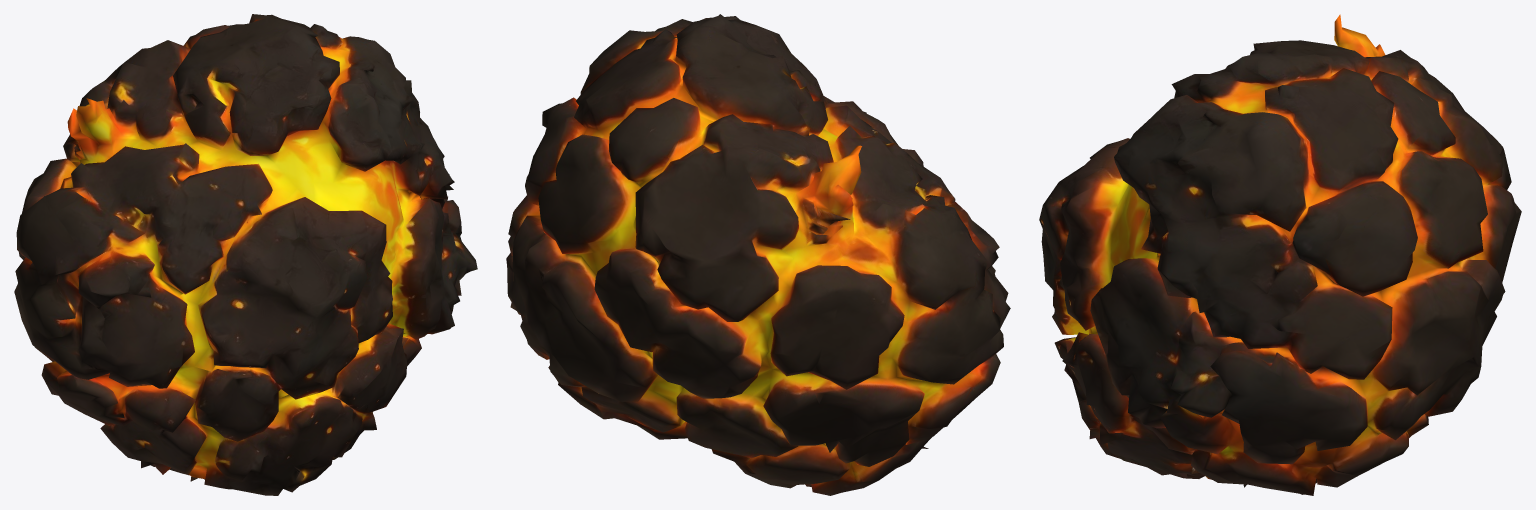
Rendered from meteor.glb.
The picture shows the model from 3 angles, left to right: view 1: azimuth 30°, elevation 25°; view 2: azimuth 150°, elevation 25°; view 3: azimuth 270°, elevation 25°; orthographic projection. The views are drawn at different scales.
Visible parts, largest first — view 1: tripo_node_88d17a39-d4fa-4aa4-9548-bd0c8241af08; view 2: tripo_node_88d17a39-d4fa-4aa4-9548-bd0c8241af08; view 3: tripo_node_88d17a39-d4fa-4aa4-9548-bd0c8241af08.
Part boxes in pixels (<box>): tripo_node_88d17a39-d4fa-4aa4-9548-bd0c8241af08: <box>14,14,477,495</box>; tripo_node_88d17a39-d4fa-4aa4-9548-bd0c8241af08: <box>506,14,1010,495</box>; tripo_node_88d17a39-d4fa-4aa4-9548-bd0c8241af08: <box>1039,14,1521,495</box>.
Size of the model in its own units: 0.9805 by 0.9242 by 0.8777.
Materials: 1 (1 with a texture image).
